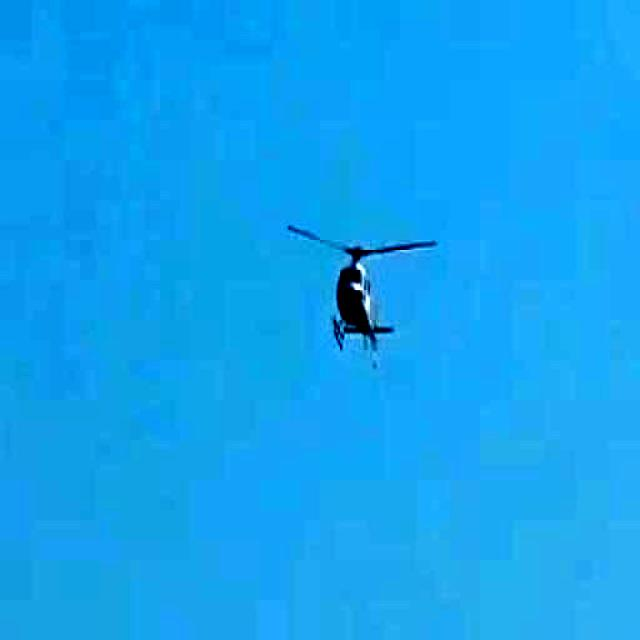drone: (276, 208, 436, 389)
